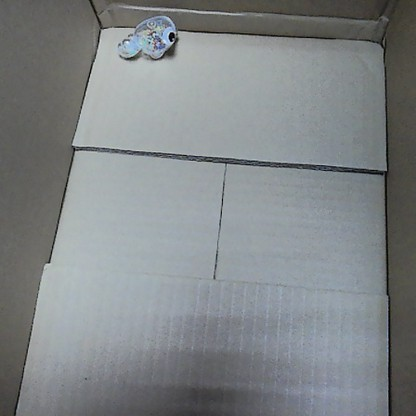whitefish: (113, 15, 180, 62)
